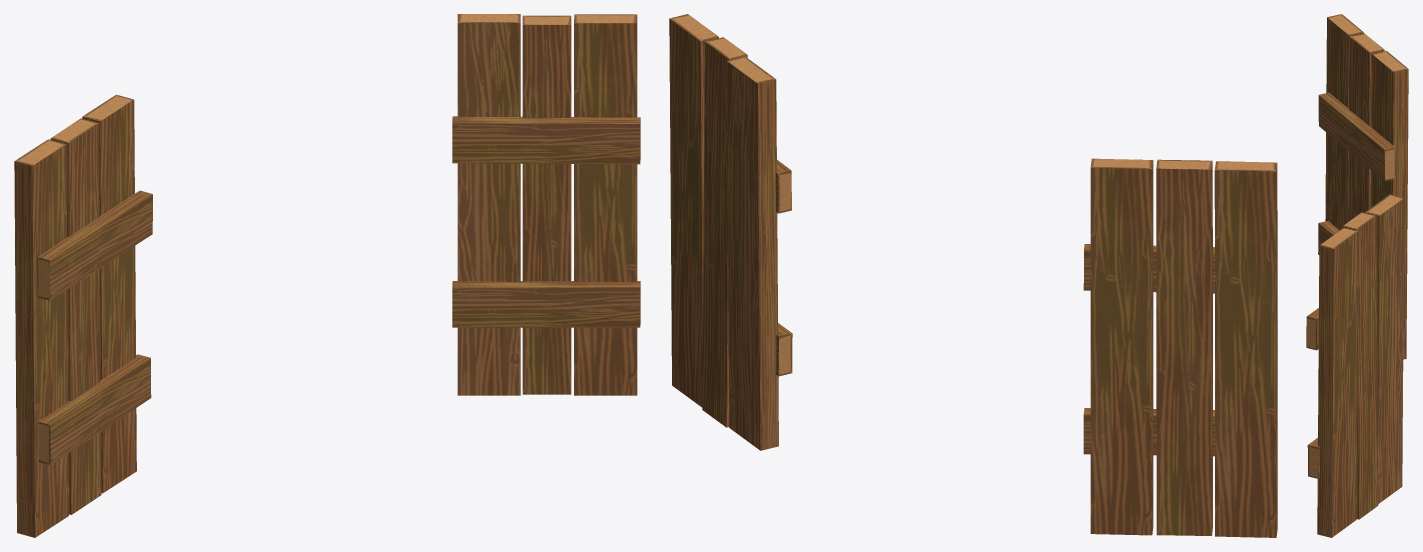
Rendered from WindowShutters_Wide_Flat_Open.gltf.
3 views of the same model, side by side, from view 1: azimuth 30°, elevation 25°; view 2: azimuth 150°, elevation 25°; view 3: azimuth 270°, elevation 25° (orthographic). The views are drawn at different scales.
Parts seen in each view (by area): view 1: WindowShutters_Wide_Flat_Open; view 2: WindowShutters_Wide_Flat_Open; view 3: WindowShutters_Wide_Flat_Open.
Part boxes in pixels (x1,y1,x2,y2): WindowShutters_Wide_Flat_Open: (14, 14, 640, 537); WindowShutters_Wide_Flat_Open: (669, 14, 1277, 537); WindowShutters_Wide_Flat_Open: (1306, 14, 1408, 537).
Size of the model in its own units: 2.48 by 1.42 by 0.4565.
Materials: 1 (1 with a texture image).
